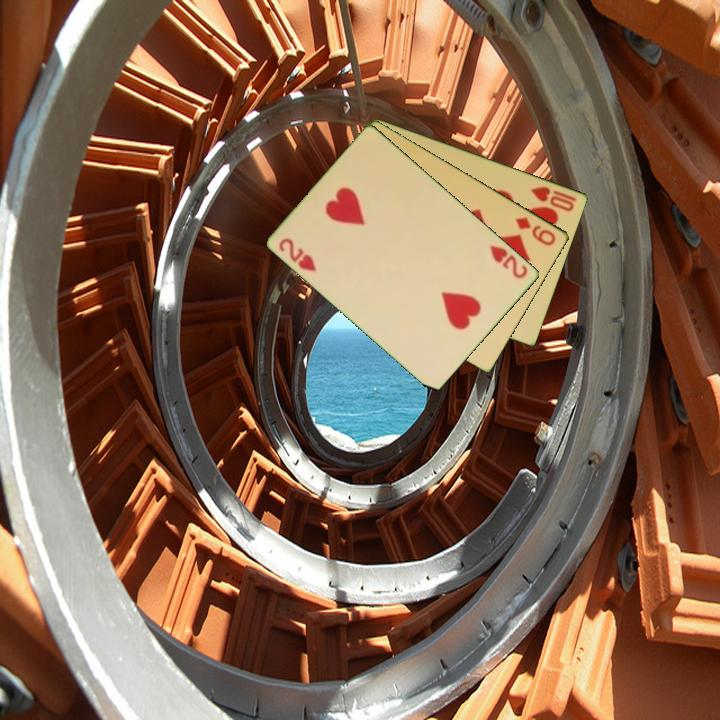10h: (527, 183, 580, 214)
2h: (275, 234, 319, 275), (486, 241, 531, 281)
9d: (512, 213, 559, 249)
